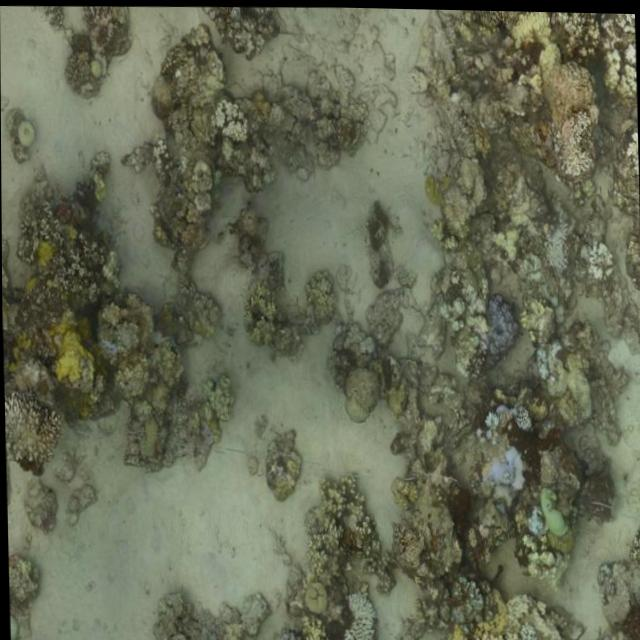Bleached Coral: (542, 212, 571, 299), (216, 91, 251, 157), (580, 232, 619, 289), (338, 585, 377, 640)
